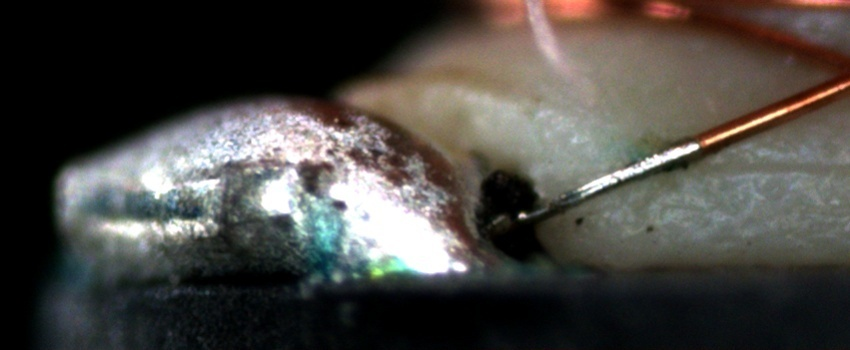CL: (806, 38, 849, 103)
DL: (542, 152, 849, 201)
TS: (481, 140, 703, 234)
